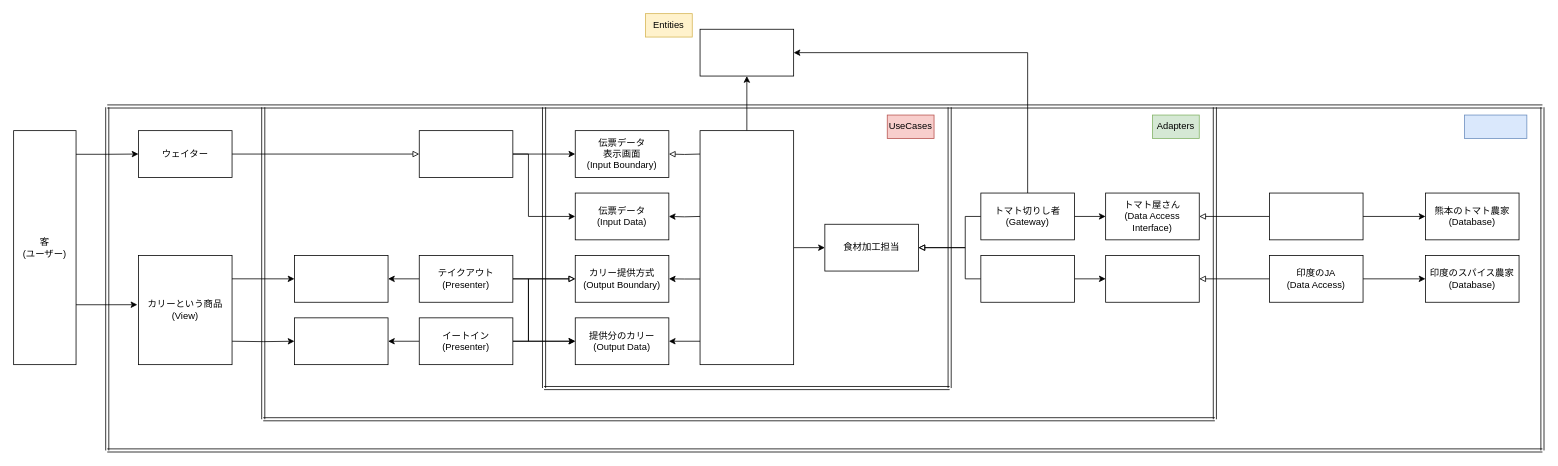
The diagram is 1558 pixels wide and 466 high, and some of its shapes have lost their labels. The box of each missing label's shape, as (x1, y1, x2, y2) in pixels:
Frameworks Drivers: (1464, 114, 1527, 138)
カリー (Entities): (699, 28, 794, 76)
スパイス屋さん (Data Access Interface): (1105, 255, 1199, 302)
スパイス調合せし者 (Gateway): (980, 255, 1074, 302)
ターリー (View Model): (294, 317, 388, 365)
プラ容器 (View Model): (294, 255, 388, 302)
料理人 (Interactor): (699, 130, 794, 365)
注文を受けるもの (Controller): (418, 130, 513, 177)
熊本のJA (Data Access): (1269, 192, 1363, 240)
